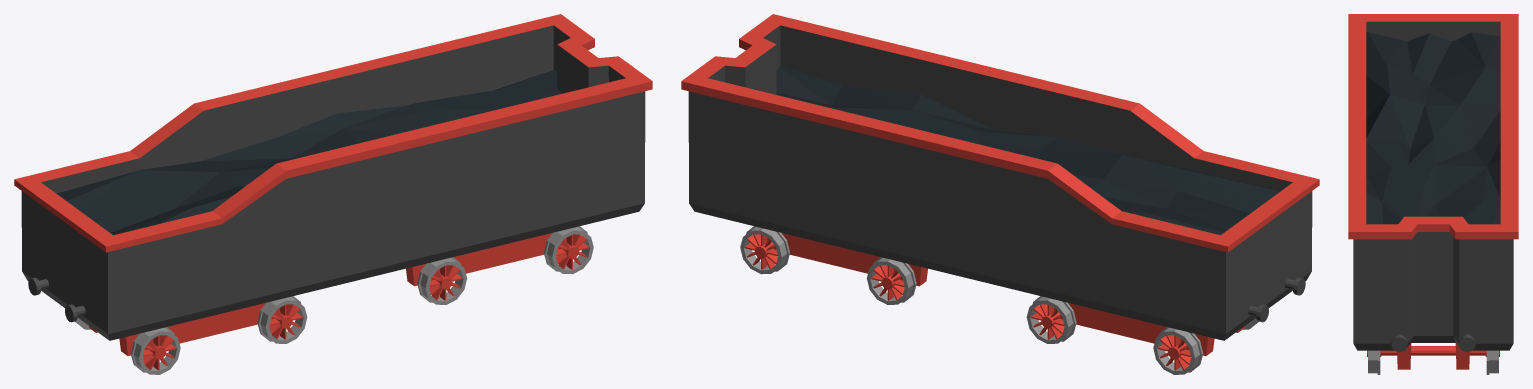
Rendered from Freight_wagon_2.fbx.
3 views of the same model, side by side, from view 1: azimuth 30°, elevation 25°; view 2: azimuth 150°, elevation 25°; view 3: azimuth 270°, elevation 25° (orthographic). The views are drawn at different scales.
Visible parts, largest first — view 1: Freight_wagon_2; view 2: Freight_wagon_2; view 3: Freight_wagon_2.
Boxes of the visible parts, left/top/right/bottom form: Freight_wagon_2: left=14, top=14, right=652, bottom=374; Freight_wagon_2: left=681, top=14, right=1319, bottom=374; Freight_wagon_2: left=1348, top=14, right=1518, bottom=374.
Bounding box in the file's own units: 1079 × 304 × 339.
